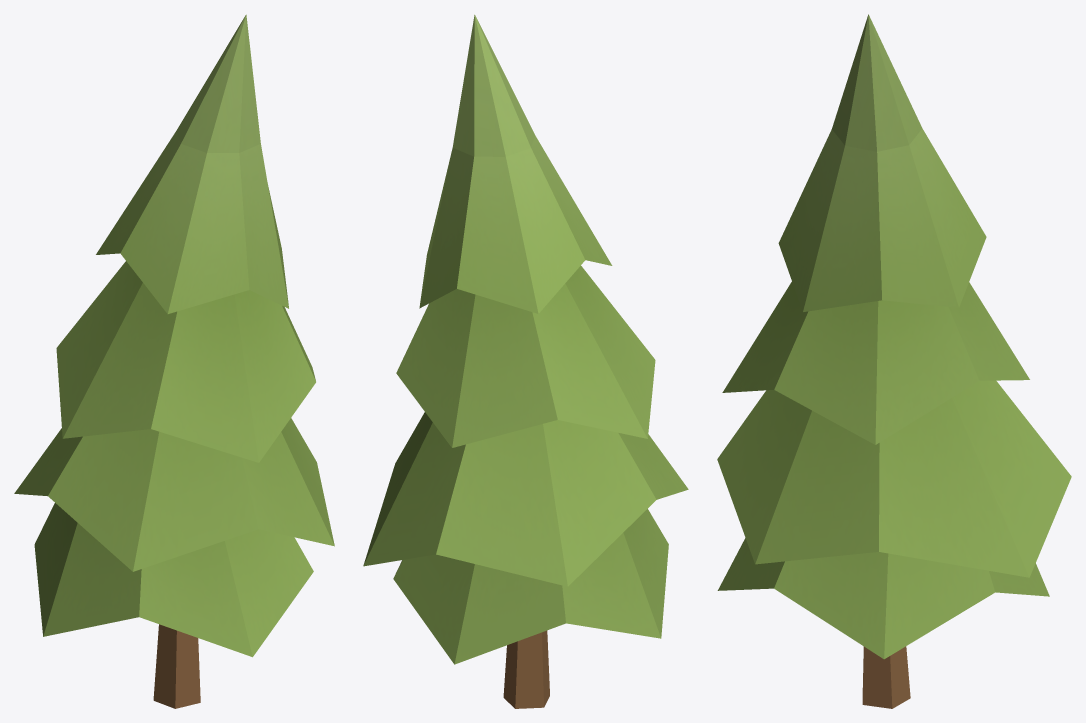
Rendered from Pine_Tree_m_04_LOD.fbx.
The picture shows the model from 3 angles, left to right: view 1: azimuth 30°, elevation 25°; view 2: azimuth 150°, elevation 25°; view 3: azimuth 270°, elevation 25°; orthographic projection. The views are drawn at different scales.
Visible parts, largest first — view 1: Pine_Tree_m_04_LOD0; view 2: Pine_Tree_m_04_LOD0; view 3: Pine_Tree_m_04_LOD0.
Boxes of the visible parts, x1=… form: Pine_Tree_m_04_LOD0: x1=14, y1=14, x2=334, y2=708; Pine_Tree_m_04_LOD0: x1=363, y1=14, x2=688, y2=708; Pine_Tree_m_04_LOD0: x1=717, y1=14, x2=1071, y2=708.
Size of what is drawn, in the model's own units: 409 by 970 by 435.
